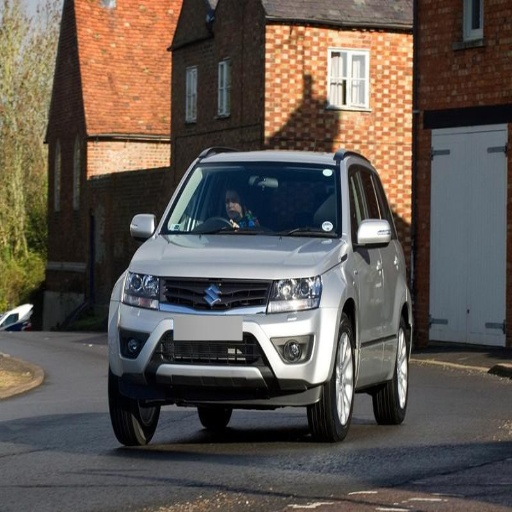front_bumper: (110, 277, 335, 405)
front_glass: (162, 165, 339, 239)
front_left_door: (353, 180, 384, 377)
front_right_light: (119, 270, 163, 308)
